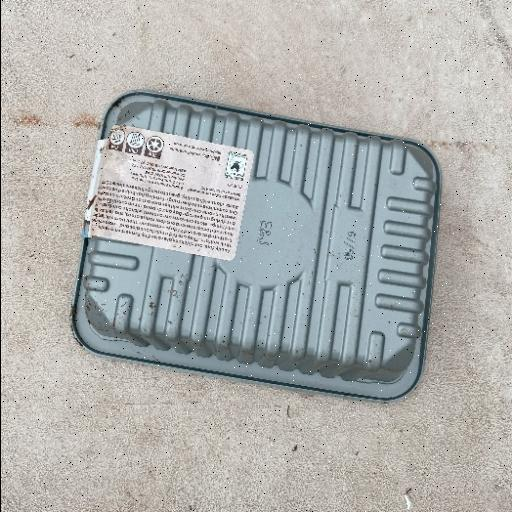Plastic: (70, 89, 442, 403)
